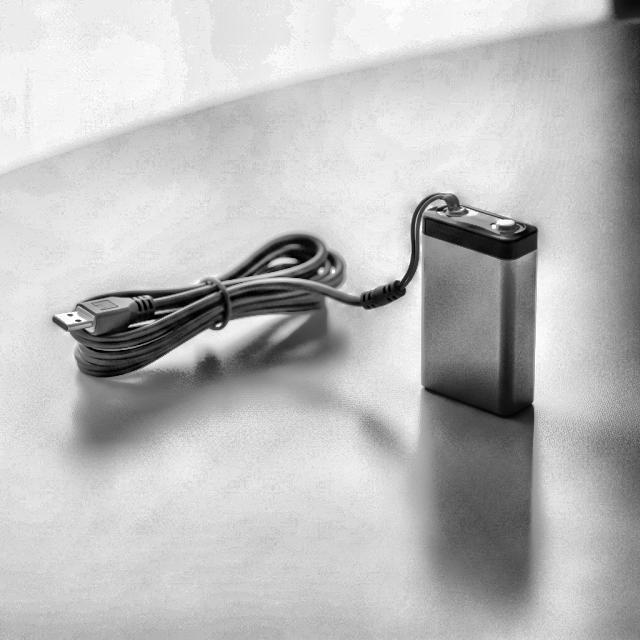Battery: (419, 201, 535, 419)
Cable: (47, 184, 459, 376)
